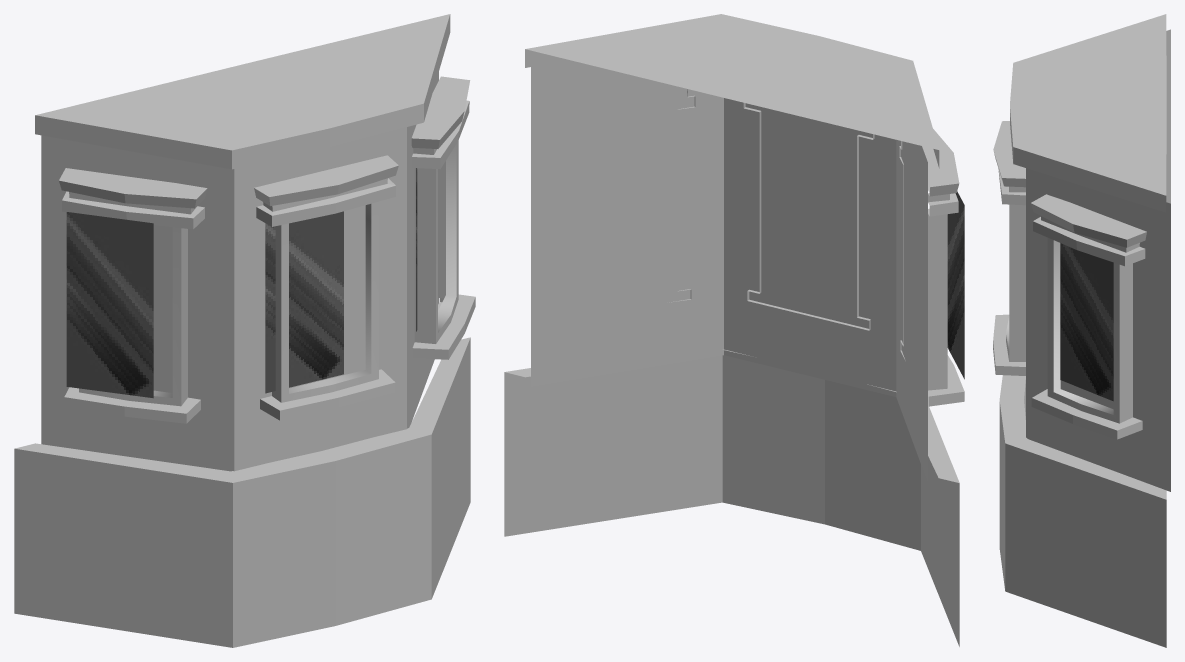
File: bay_window_bottom.FBX
3 views of the same model, side by side, from view 1: azimuth 30°, elevation 25°; view 2: azimuth 150°, elevation 25°; view 3: azimuth 270°, elevation 25° (orthographic). The views are drawn at different scales.
Visible parts, largest first — view 1: frame, bottom, glass005, glass006; view 2: frame, bottom, glass005; view 3: frame, bottom, glass007.
Part boxes in pixels (x1,y1,x2,y2): frame: [35, 14, 475, 471]; bottom: [14, 337, 470, 647]; glass005: [66, 212, 153, 398]; glass006: [265, 211, 343, 393]; frame: [525, 14, 964, 482]; bottom: [504, 349, 959, 646]; glass005: [947, 191, 964, 379]; frame: [993, 14, 1170, 491]; bottom: [999, 375, 1166, 647]; glass007: [1060, 243, 1113, 401].
Size of the model in its own units: 4.37 by 4.51 by 1.64.
